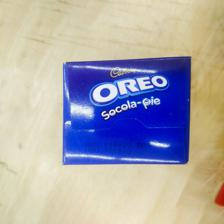Oreo: (61, 56, 190, 166)
